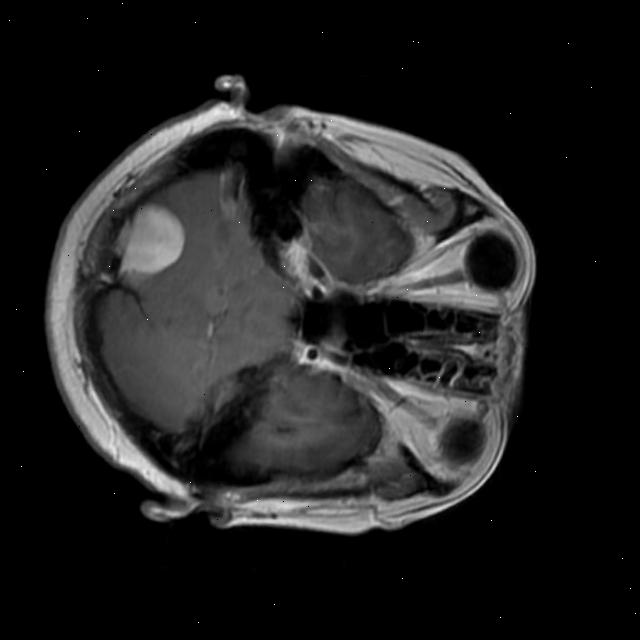Meningioma: (104, 195, 194, 288)
